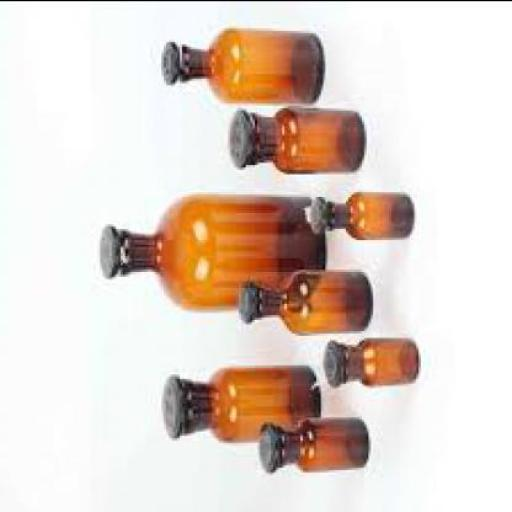glass: (96, 196, 325, 311), (162, 30, 325, 107), (161, 366, 321, 444), (228, 109, 364, 173), (239, 273, 371, 337), (257, 419, 368, 473), (304, 193, 412, 239), (323, 340, 419, 389)
